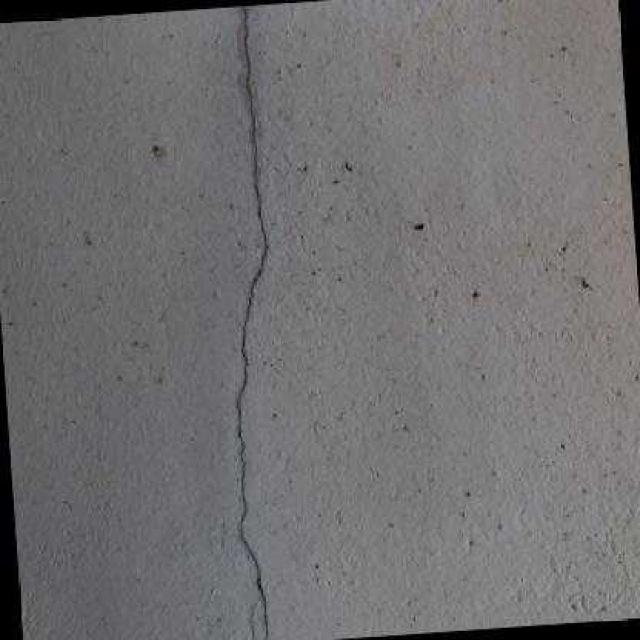D00: (235, 5, 267, 640)
